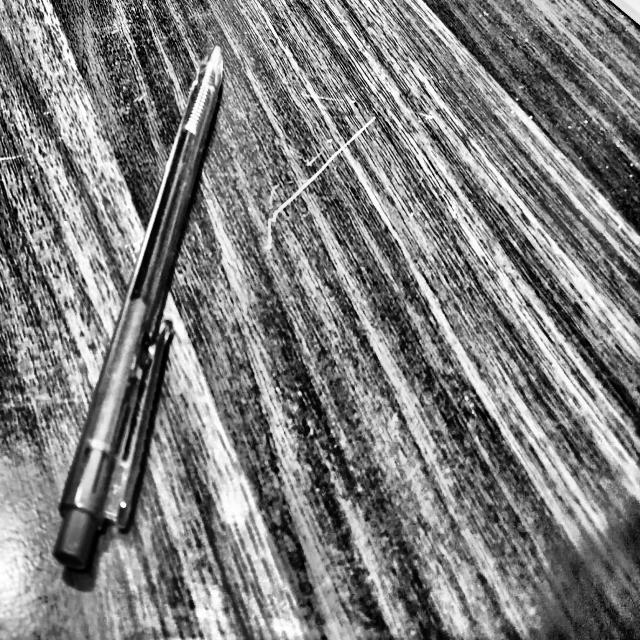Pen: (49, 37, 248, 580)
